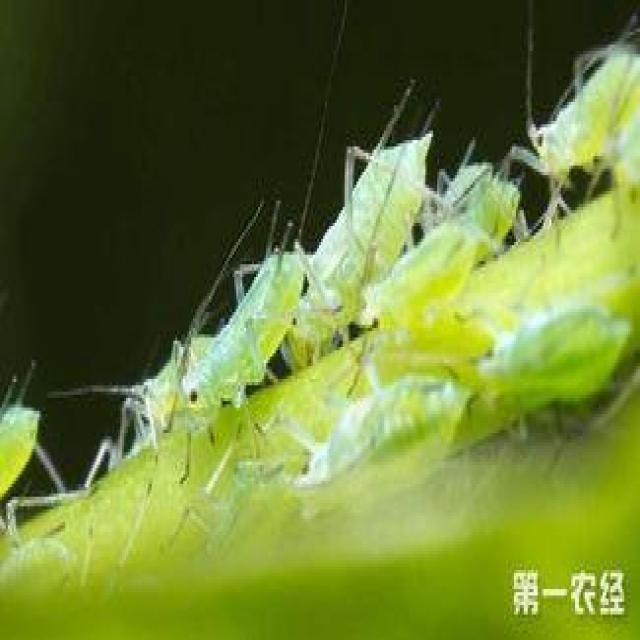Aphids: (145, 173, 334, 488)
